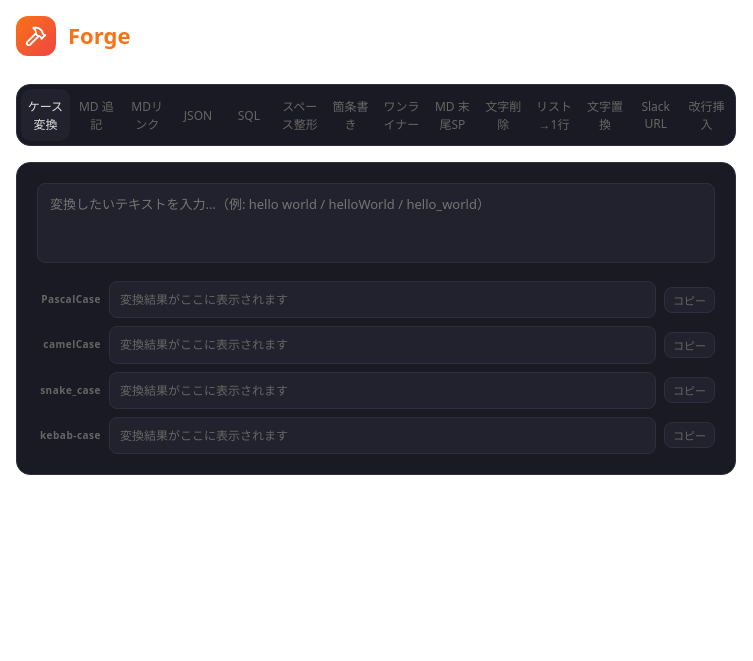
MD 追記 › 入力するだけで ## + ``` ``` + --- 形式の出力が自動表示される
The width and height of the screenshot is (753, 661).
Click the tab "MD 追記" at (96, 115), box [72,89,121,141]
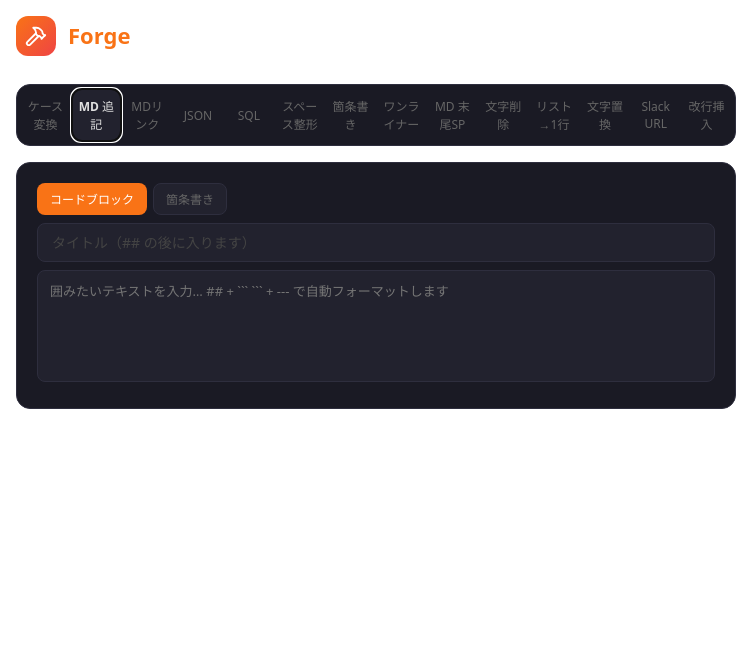
Type "サンプルコード" into the text box named "MDラッパー入力" at (376, 326), box [37,270,715,382]
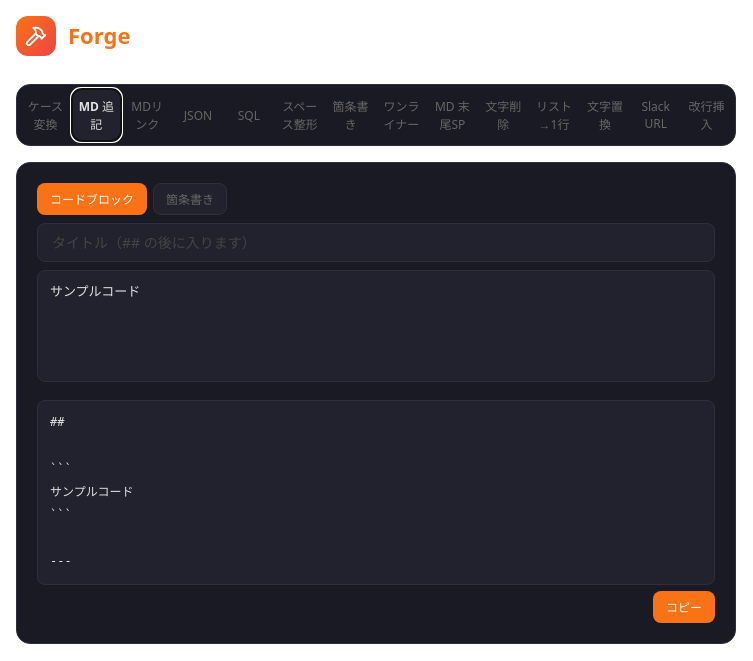
Result: the text named "MD変換結果" shows "##" at [50,415,133,568]
Result: the text named "MD変換結果" shows "```" at [50,415,133,568]
Result: the text named "MD変換結果" shows "サンプルコード" at [50,415,133,568]
